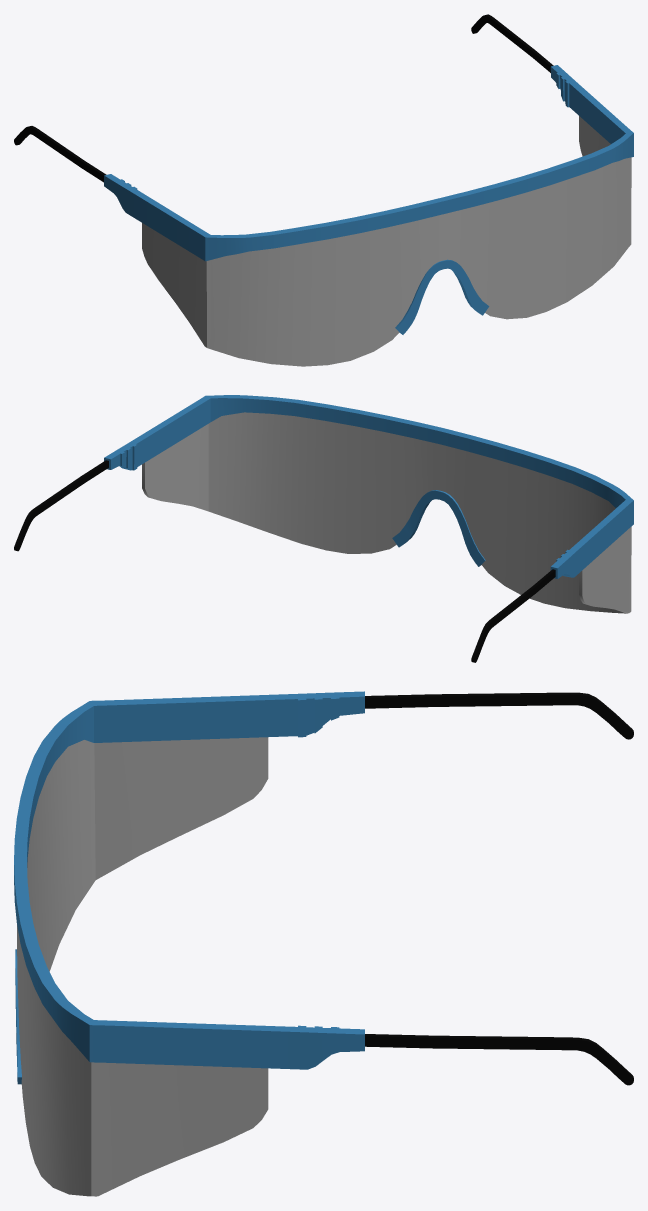
Rendered from Glasses by iPoly3D - DBEk0SMQCt.glb.
3 renders of one model, top to bottom at view 1: azimuth 30°, elevation 25°; view 2: azimuth 150°, elevation 25°; view 3: azimuth 270°, elevation 25°, orthographic. The views are drawn at different scales.
Parts seen in each view (by area): view 1: glasses27.001; view 2: glasses27.001; view 3: glasses27.001.
Part boxes in pixels (box(x1,y1,x2,y2)): glasses27.001: box(14, 14, 633, 366); glasses27.001: box(14, 395, 633, 662); glasses27.001: box(14, 691, 633, 1196).
Bounding box in the file's own units: 2.09 × 0.6186 × 1.58.
